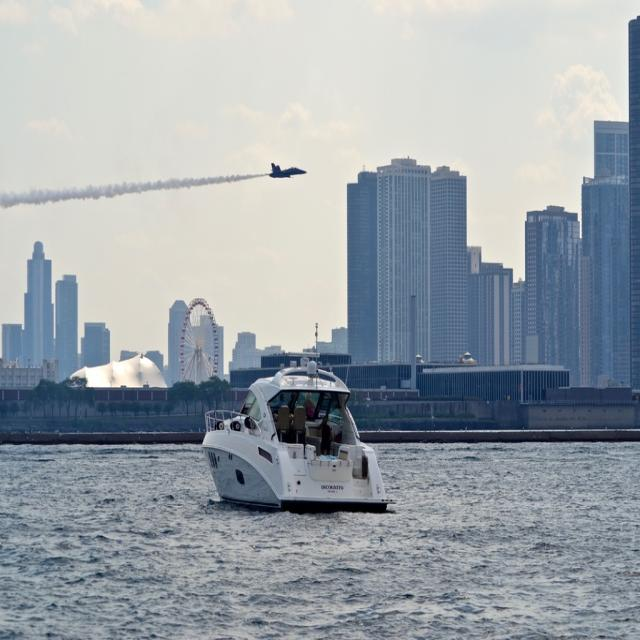Boat: (202, 326, 413, 513)
